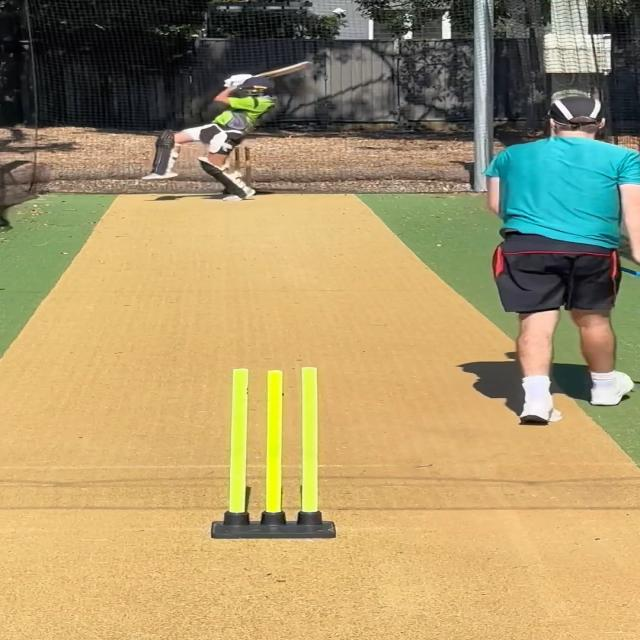stump: (210, 366, 338, 539)
